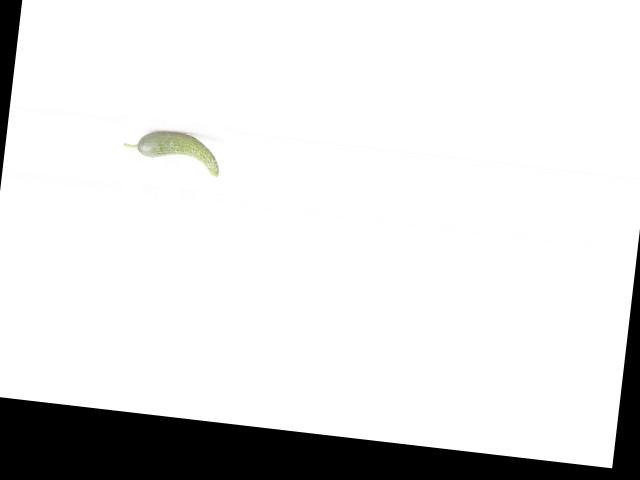cucumber: (120, 126, 222, 176)
